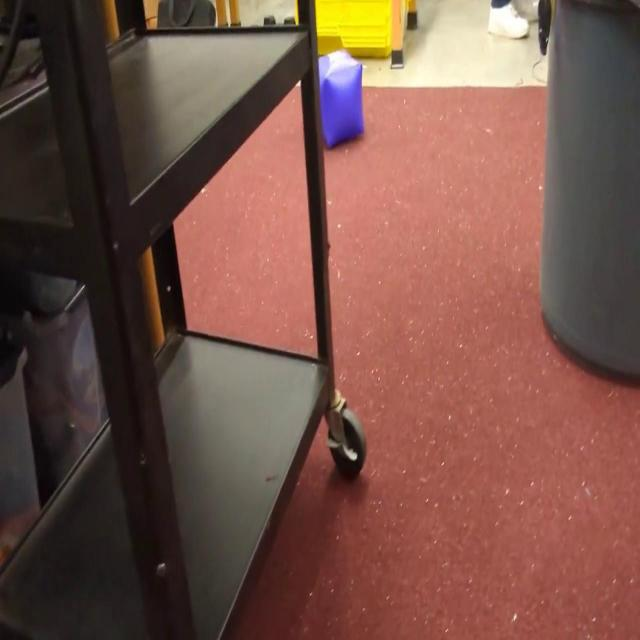frc_cube: (318, 49, 367, 146)
